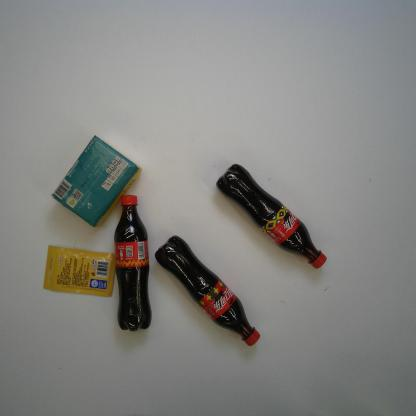Drink: (154, 233, 261, 348), (214, 163, 328, 270), (114, 195, 152, 332)
Seasoner: (42, 245, 116, 298)
Tissue: (50, 134, 142, 228)
